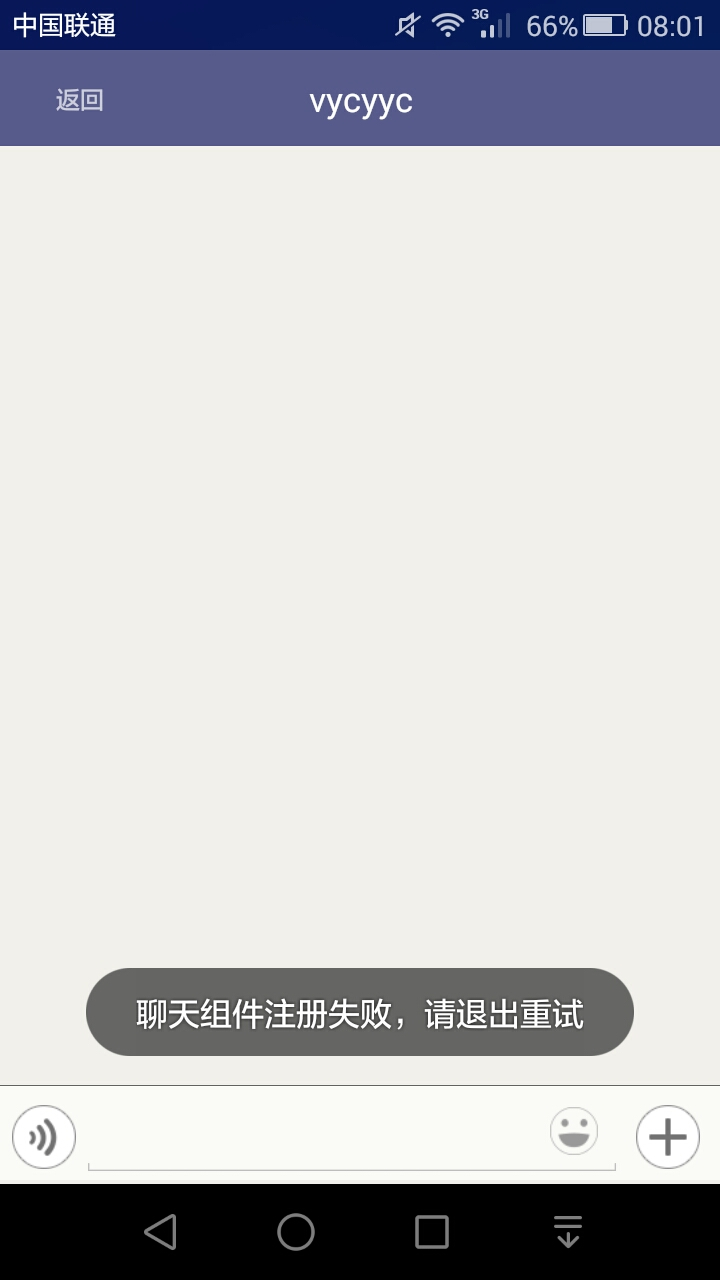alert: (77, 961, 632, 1064)
imgbutton: (631, 1104, 708, 1176), (9, 1100, 79, 1172), (537, 1099, 605, 1158)
